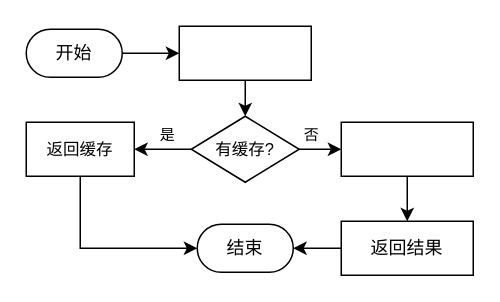
Image size: 500x302. Some labels were removed from this diagram. The shapes that lost their labels are listed below. From the top down, each one's centre as x and y in pixels, then its label:
At point (244, 52): "接收请求".
At point (406, 148): "LLM生成".
